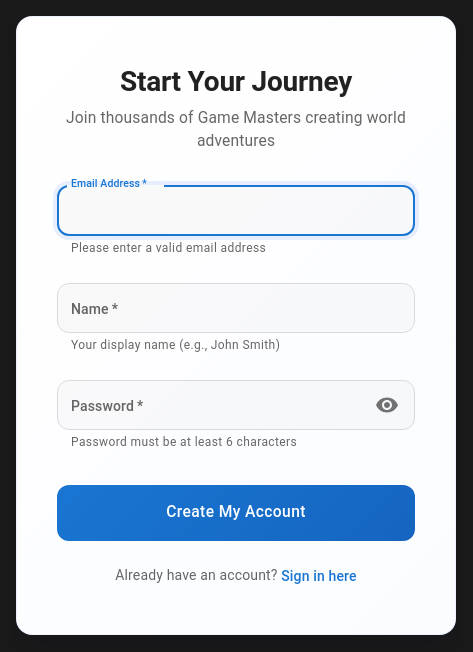
it: SimpleRegistrationForm › password validation › should show "Password is required" error when password is empty on submit
This screenshot has width=473, height=652.
Step 1. Type "test@example.com" into the field with id "email" → (236, 211), box [57,185,415,236]
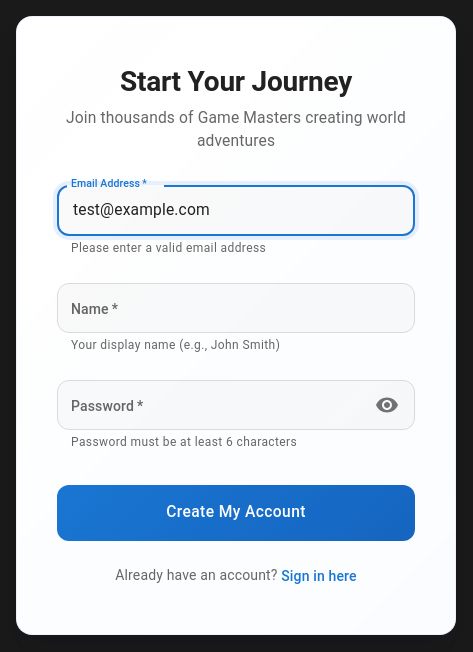
Step 2. Type "John Smith" into the field with id "name" → (236, 308), box [57,283,415,333]
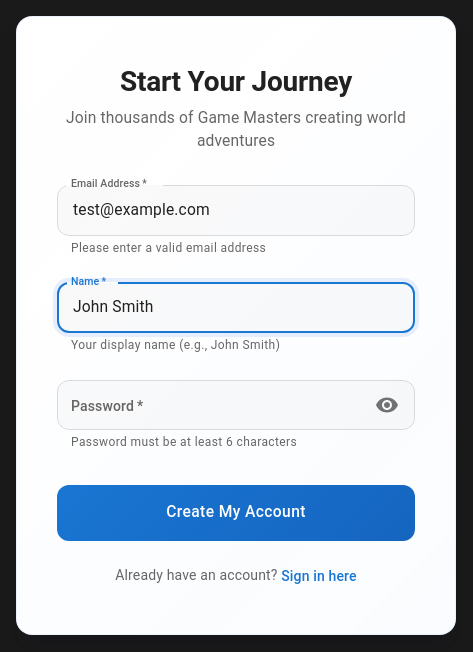
Step 3. Click the button "Create My Account" → (236, 513), box [57,485,415,541]
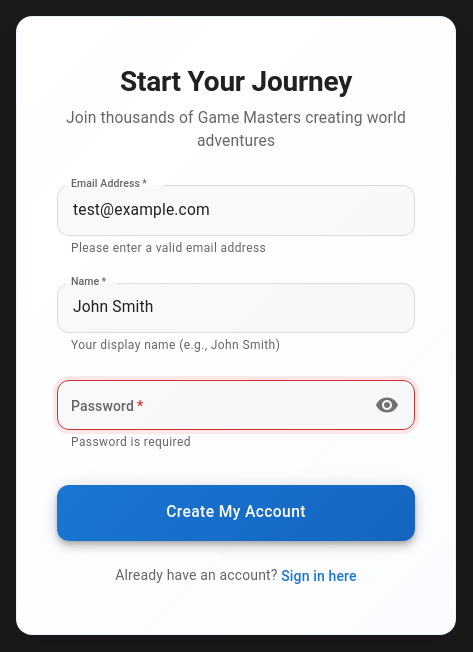
Expected: the text "Password is required" is shown, [71,436,191,450]
